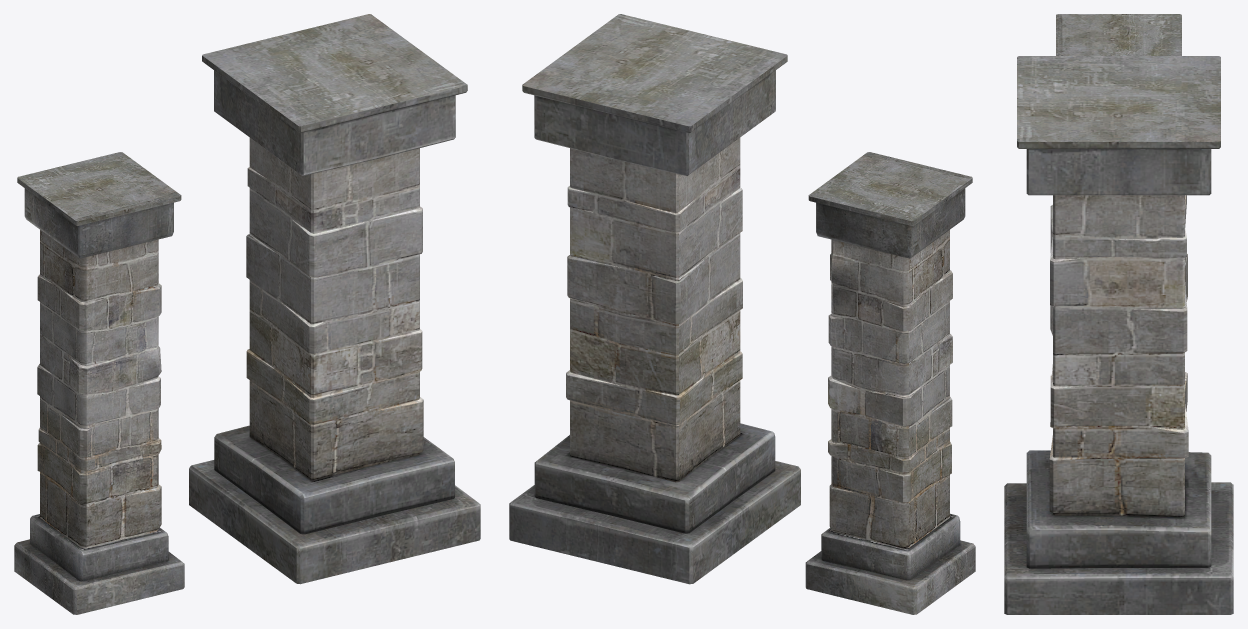
The model's file is stone_pillars.glb.
3 views of the same model, side by side, from view 1: azimuth 30°, elevation 25°; view 2: azimuth 150°, elevation 25°; view 3: azimuth 270°, elevation 25° (orthographic). The views are drawn at different scales.
Visible parts, largest first — view 1: stone_pillar_01, mesh0_stone_pillar_02_0; view 2: stone_pillar_01, mesh0_stone_pillar_02_0; view 3: stone_pillar_01, mesh0_stone_pillar_02_0.
Part boxes in pixels (x1,y1,x2,y2): stone_pillar_01: (189, 14, 480, 584); mesh0_stone_pillar_02_0: (14, 152, 184, 614); stone_pillar_01: (509, 14, 800, 584); mesh0_stone_pillar_02_0: (805, 152, 975, 614); stone_pillar_01: (1004, 56, 1233, 614); mesh0_stone_pillar_02_0: (1056, 14, 1181, 55).
Size of the model in its own units: 0.9614 by 1.08 by 0.48.
2 materials, 2 textured.
